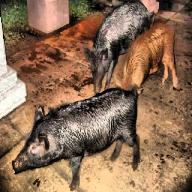boar: (11, 84, 140, 190)
